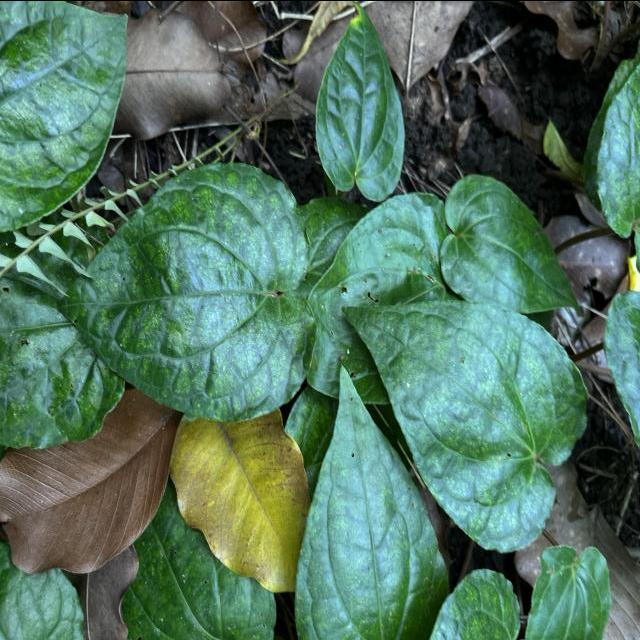Piper betle: (54, 158, 322, 426)
